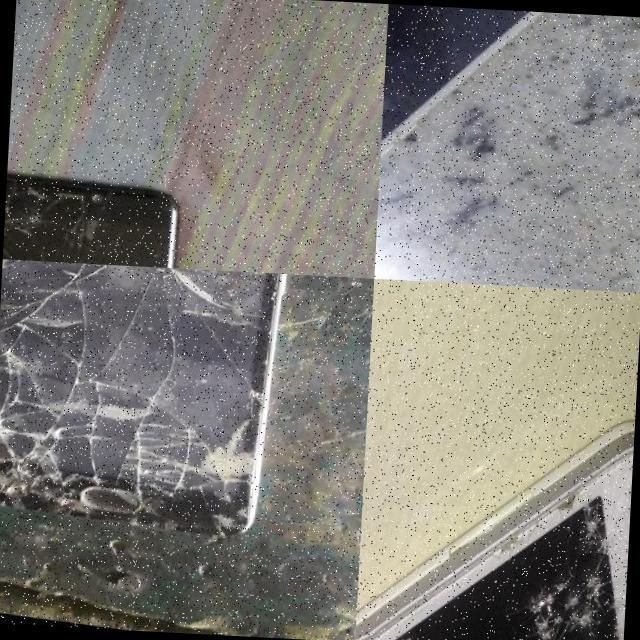screen crack: (0, 258, 307, 557), (449, 412, 635, 640), (396, 621, 426, 640)
